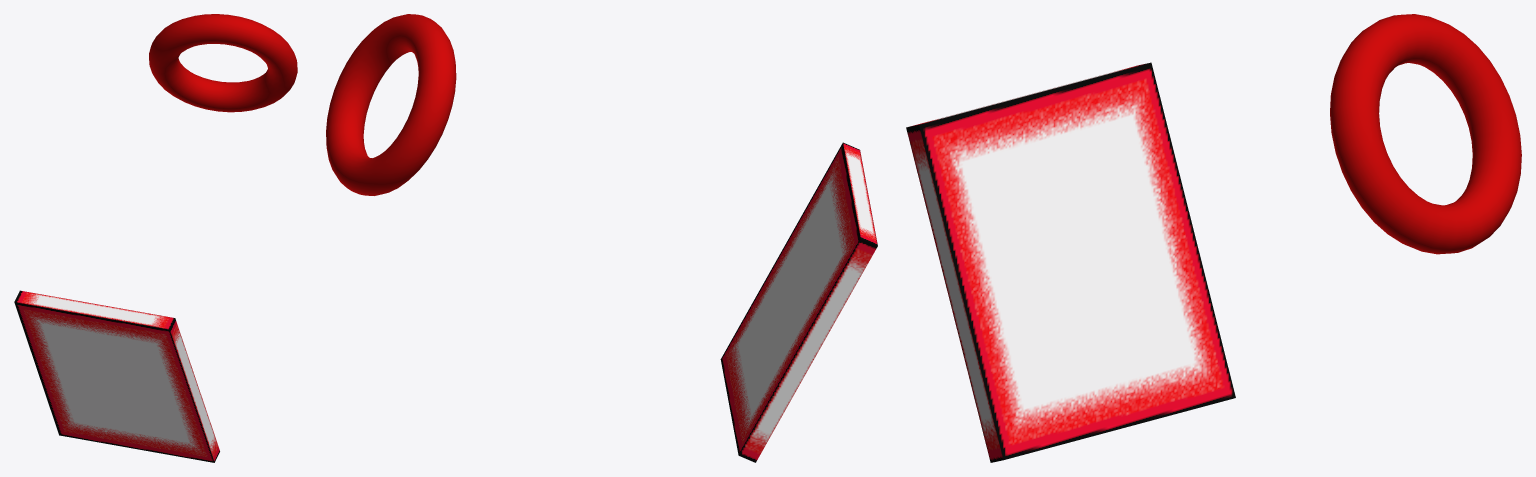
File: bouncelevel1panels.fbx
3 views of the same model, side by side, from view 1: azimuth 30°, elevation 25°; view 2: azimuth 150°, elevation 25°; view 3: azimuth 270°, elevation 25° (orthographic). The views are drawn at different scales.
Visible parts, largest first — view 1: Cube2; view 2: Cube2; view 3: Cube2.
Boxes of the visible parts, bbox=[...] form: Cube2: bbox=[14, 14, 297, 462]; Cube2: bbox=[326, 14, 877, 462]; Cube2: bbox=[906, 14, 1521, 462].
Bounding box in the file's own units: 597 × 537 × 548.
1 material, 1 textured.
